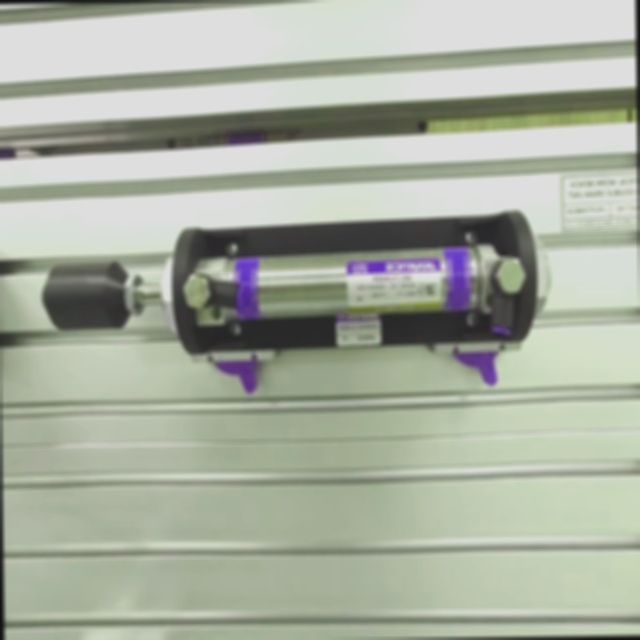double acting pneumatic cylinder: (34, 199, 556, 407)
